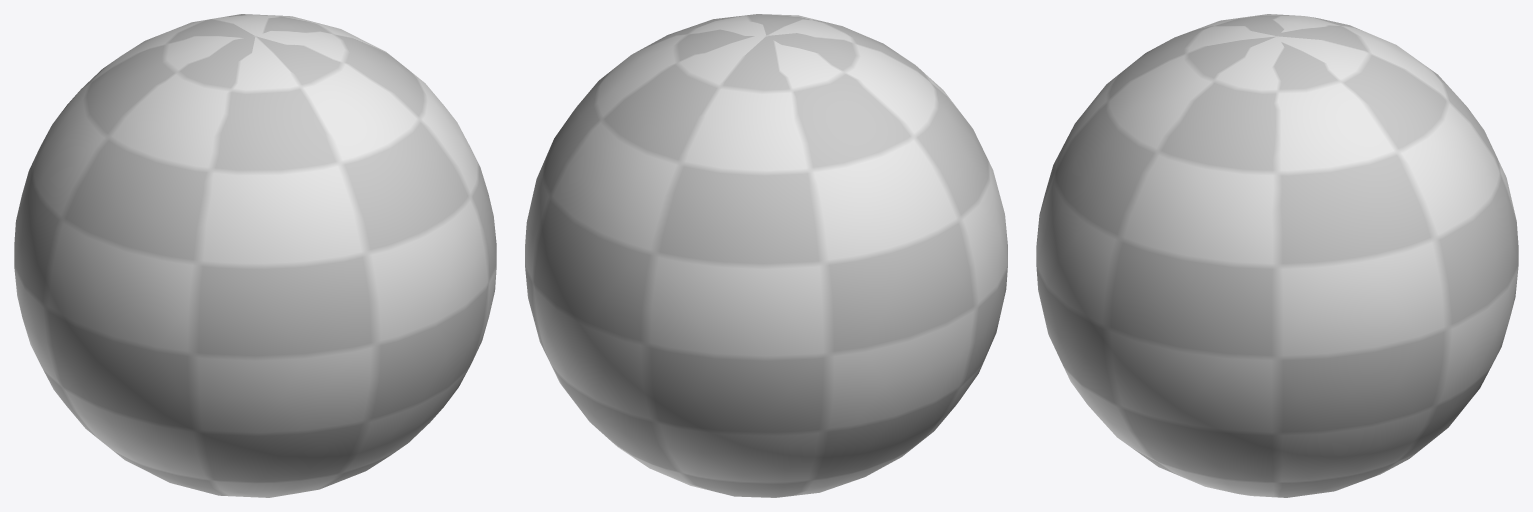
File: ball.obj
3 views of the same model, side by side, from view 1: azimuth 30°, elevation 25°; view 2: azimuth 150°, elevation 25°; view 3: azimuth 270°, elevation 25° (orthographic).
Parts seen in each view (by area): view 1: ball; view 2: ball; view 3: ball.
Boxes of the visible parts, x1,y1,x2,y2 form: ball: (14,14,496,497); ball: (525,14,1007,497); ball: (1036,14,1518,497).
Size of the model in its own units: 2 by 2 by 1.99.
1 material, 1 textured.
